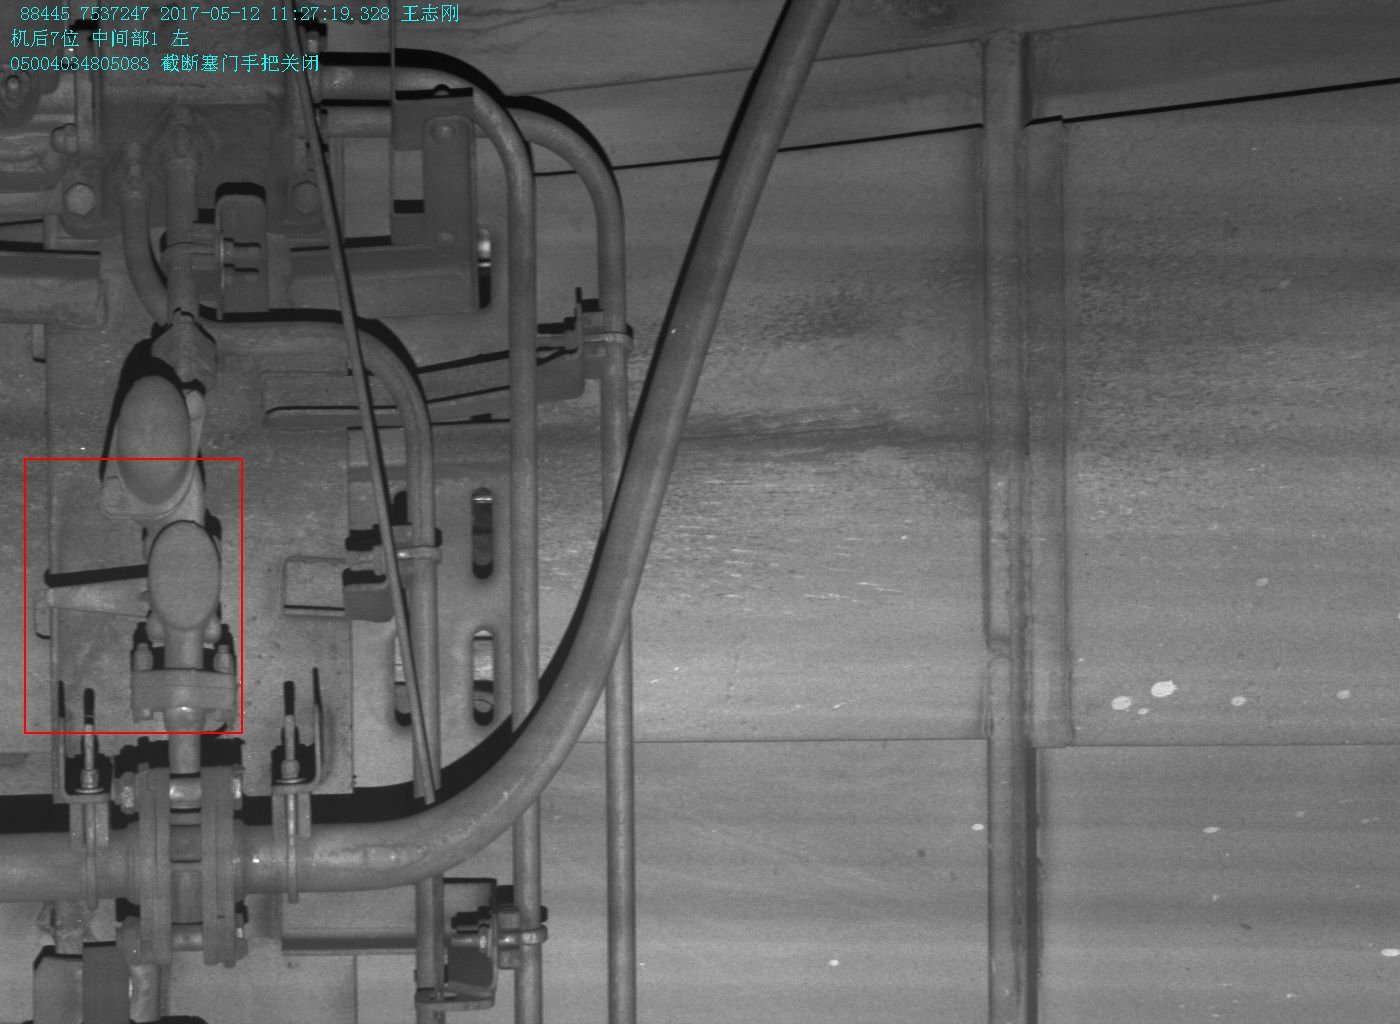truncated plug door handle: (43, 523, 224, 642)
